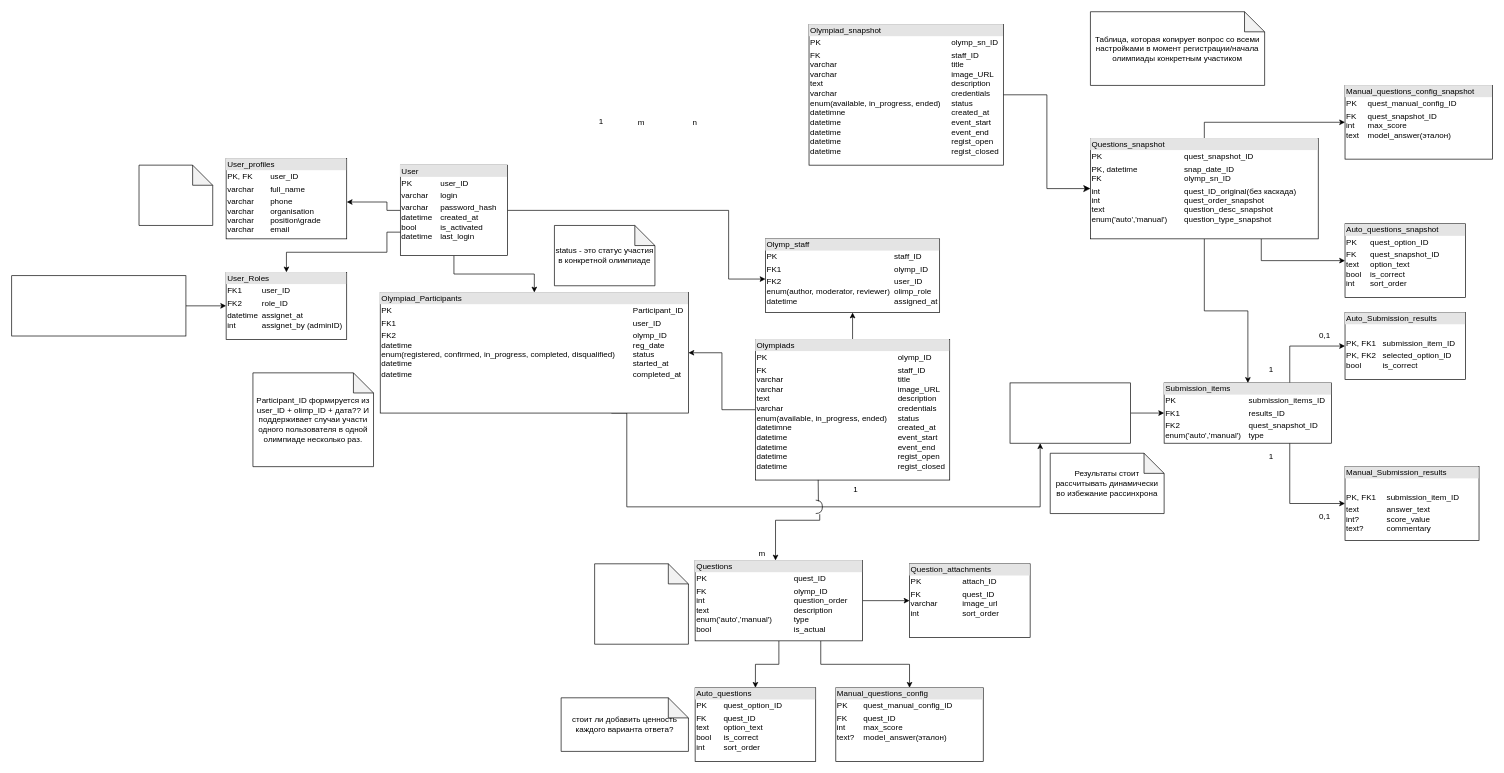
This 1504x773 diagram has some shape labels left out. Each missing label, with the centre of its shape:
"Olimpiad_results PK results_ID FK1 participant_ID" goes at point 1070,412.
"position - для сотрудников важно" goes at point 175,194.
"Roles PK role_ID varchar name (participant, staff, admin) text description" goes at point 98,305.
"Данные для задания с развернутым ответом уже есть в этой таблице" goes at point 641,603.
